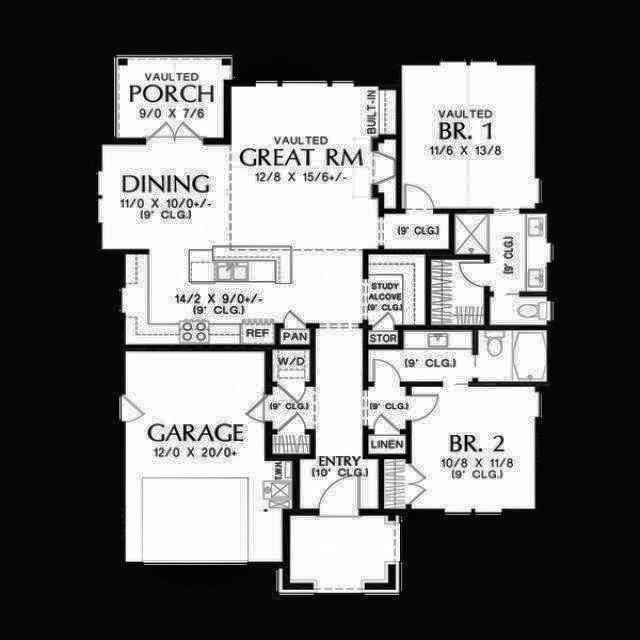room: (100, 84, 398, 509), (124, 351, 292, 562), (402, 65, 535, 208), (413, 388, 533, 507), (454, 213, 547, 326), (292, 517, 388, 582), (368, 330, 473, 381), (369, 254, 424, 325), (431, 260, 483, 324), (479, 331, 545, 381), (385, 215, 449, 250), (273, 387, 314, 429), (369, 388, 406, 429), (273, 351, 309, 381), (384, 460, 406, 508), (368, 435, 406, 454), (273, 435, 310, 453), (281, 329, 311, 345), (368, 330, 398, 344)
